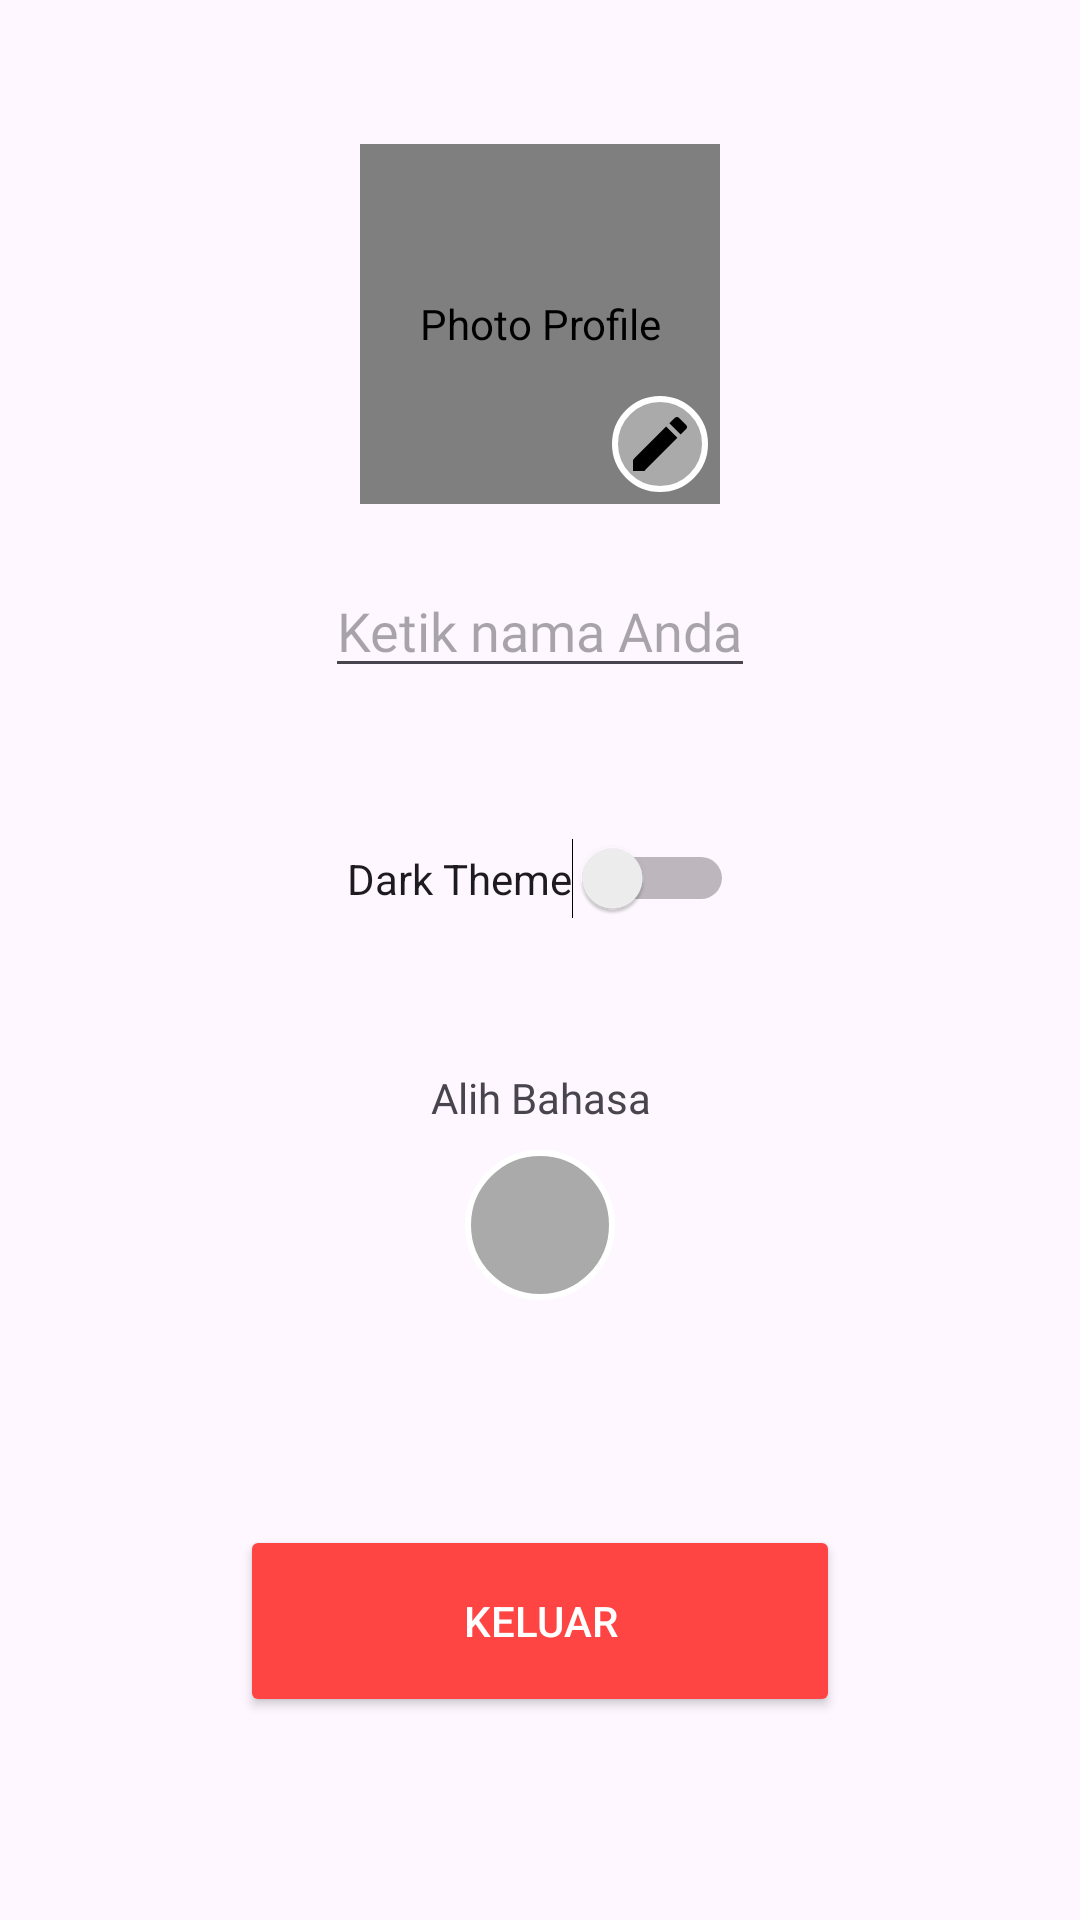

Where icons sit on this 1080*1920 app screen, as (x1, y1, x2, y2):
Edit Photo: (612, 396, 708, 492)
